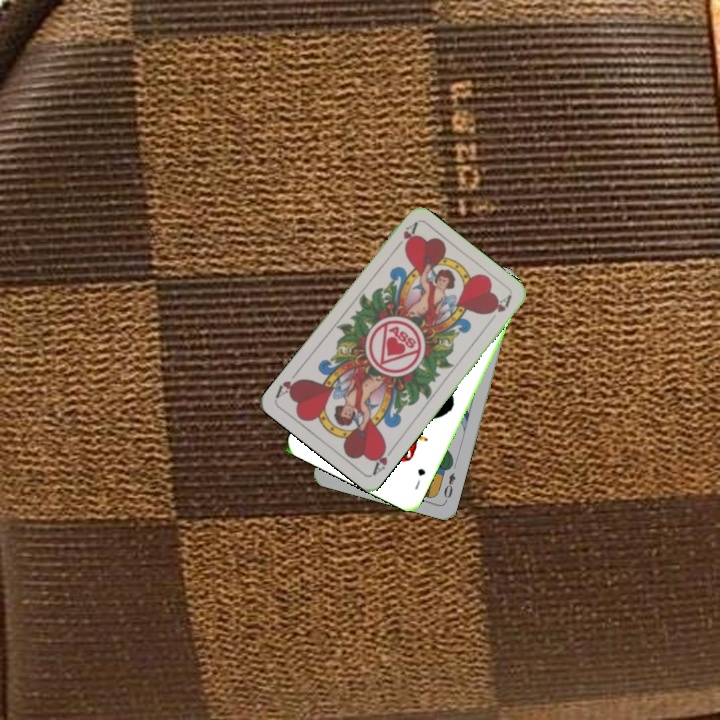EO: (440, 469, 458, 504)
GU: (411, 464, 428, 492)
HA: (390, 219, 420, 254), (369, 442, 397, 477)
